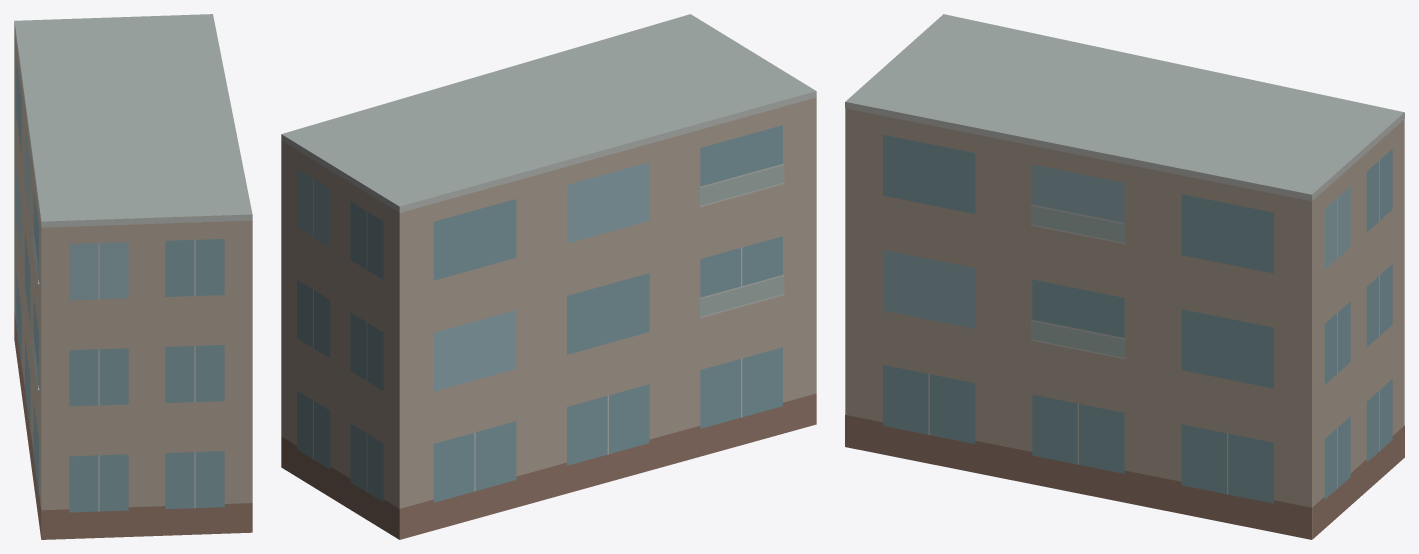
File: survey-upis-33010776.glb
3 renders of one model, left to right at view 1: azimuth 30°, elevation 25°; view 2: azimuth 150°, elevation 25°; view 3: azimuth 270°, elevation 25°, orthographic. The views are drawn at different scales.
Visible parts, largest first — view 1: survey-upis-33010776.tmp; view 2: survey-upis-33010776.tmp; view 3: survey-upis-33010776.tmp.
Boxes of the visible parts, <box> form: survey-upis-33010776.tmp: <box>14,14,252,539</box>; survey-upis-33010776.tmp: <box>281,14,816,539</box>; survey-upis-33010776.tmp: <box>845,14,1404,539</box>.
Size of the model in its own units: 14.38 by 12.8 by 18.82.
